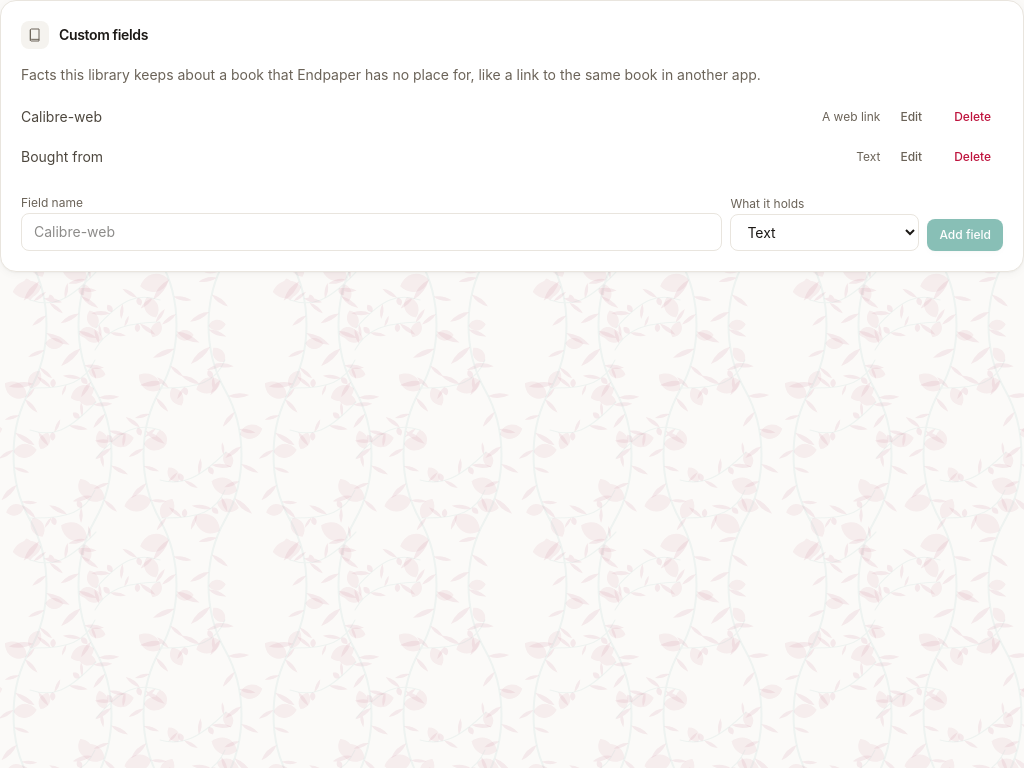
it: CustomFieldsSection › shows a refused rename beside the row it was typed in
Click the button "Edit" next to "A web link".
click(911, 117)  # box [888,101,934,133]
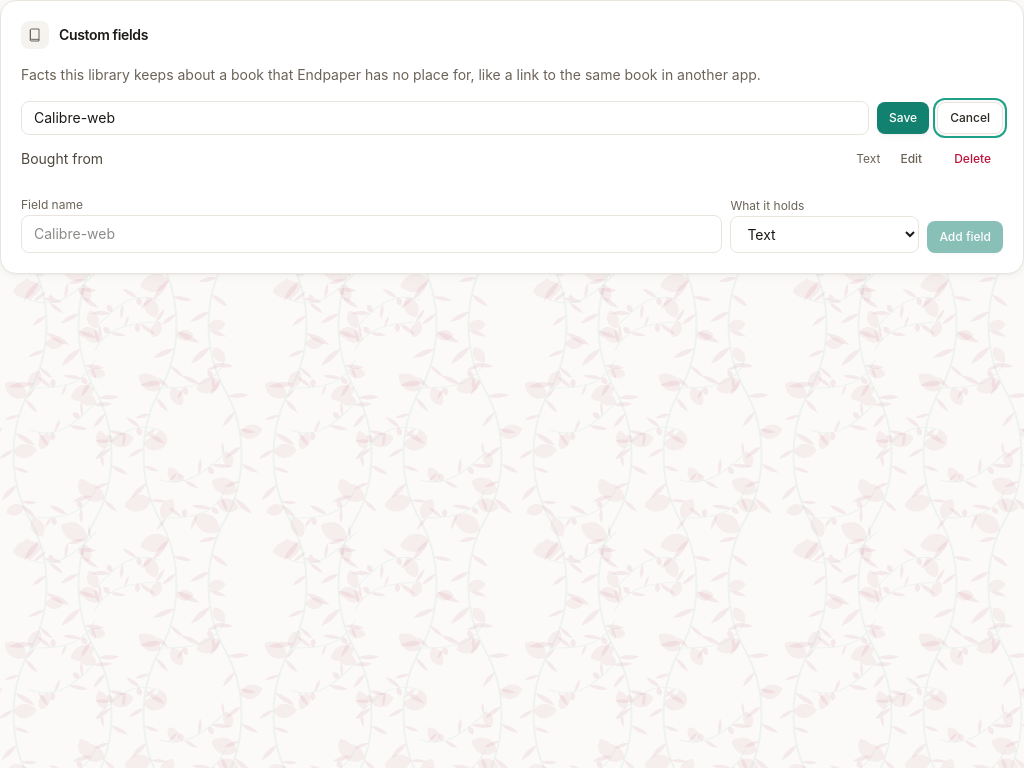
Replace the text in the field named "New name for Calibre-web" with "Ebook" at (445, 118), box [21,101,869,135]
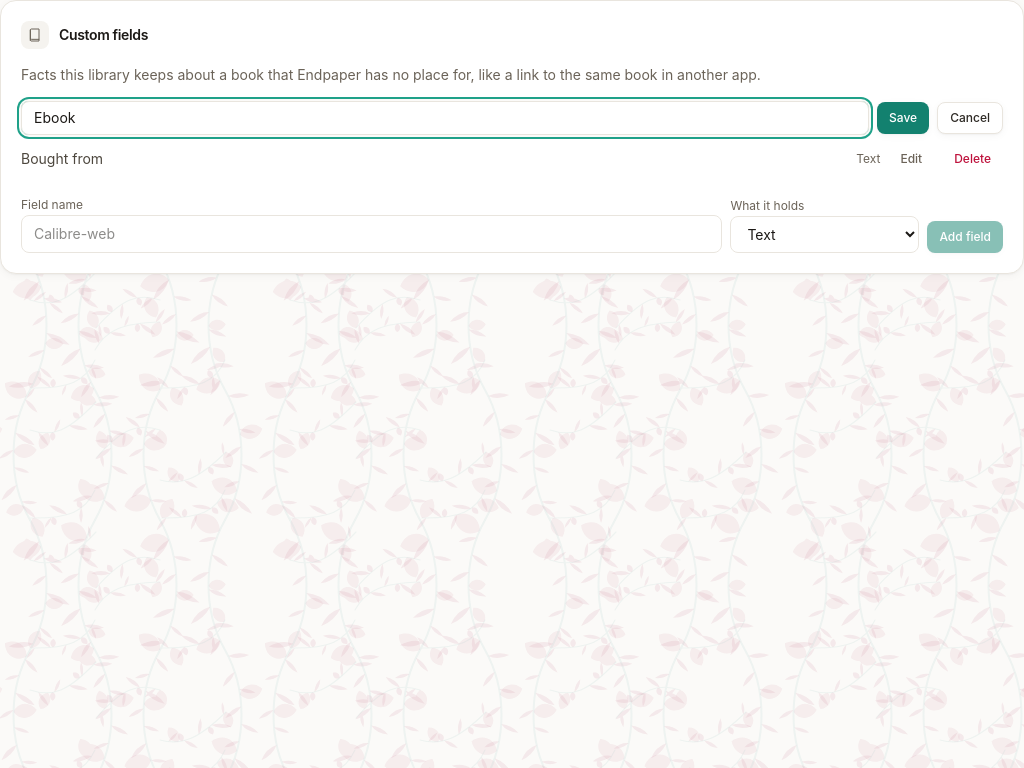
Click the button "Save".
click(903, 118)  # box [877,102,929,134]
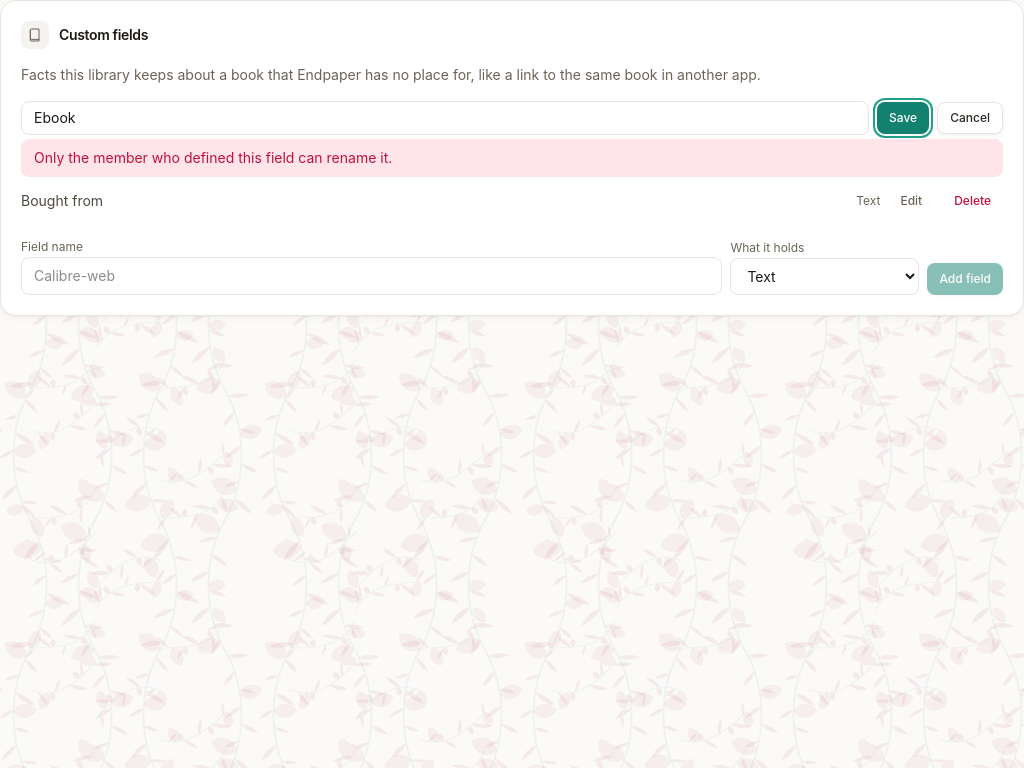
expect the text "Only the member who defined this field can rename it." is shown: met, box [34,148,392,168]
